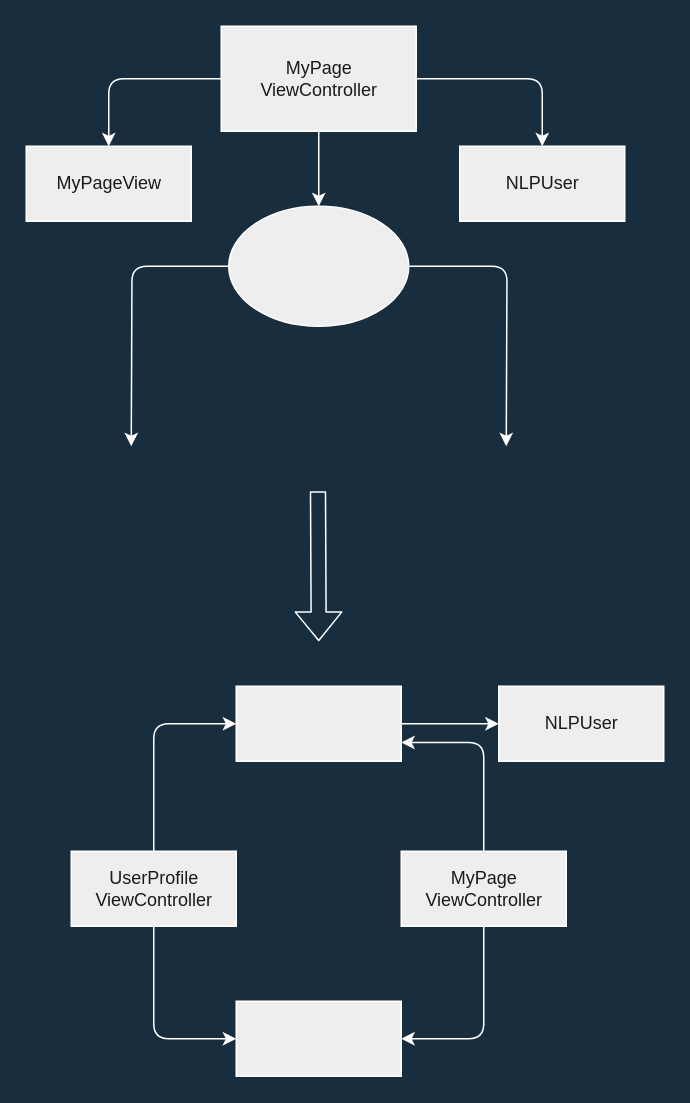
The diagram is 690 pixels wide and 1103 high, and some of its shapes have lost their labels. Each missing label, with the centre of its shape:
"if MyPage? UserProfile?" goes at (318,265).
"ProfileView" goes at (318,1038).
"UserProfile ViewModel" goes at (318,723).
